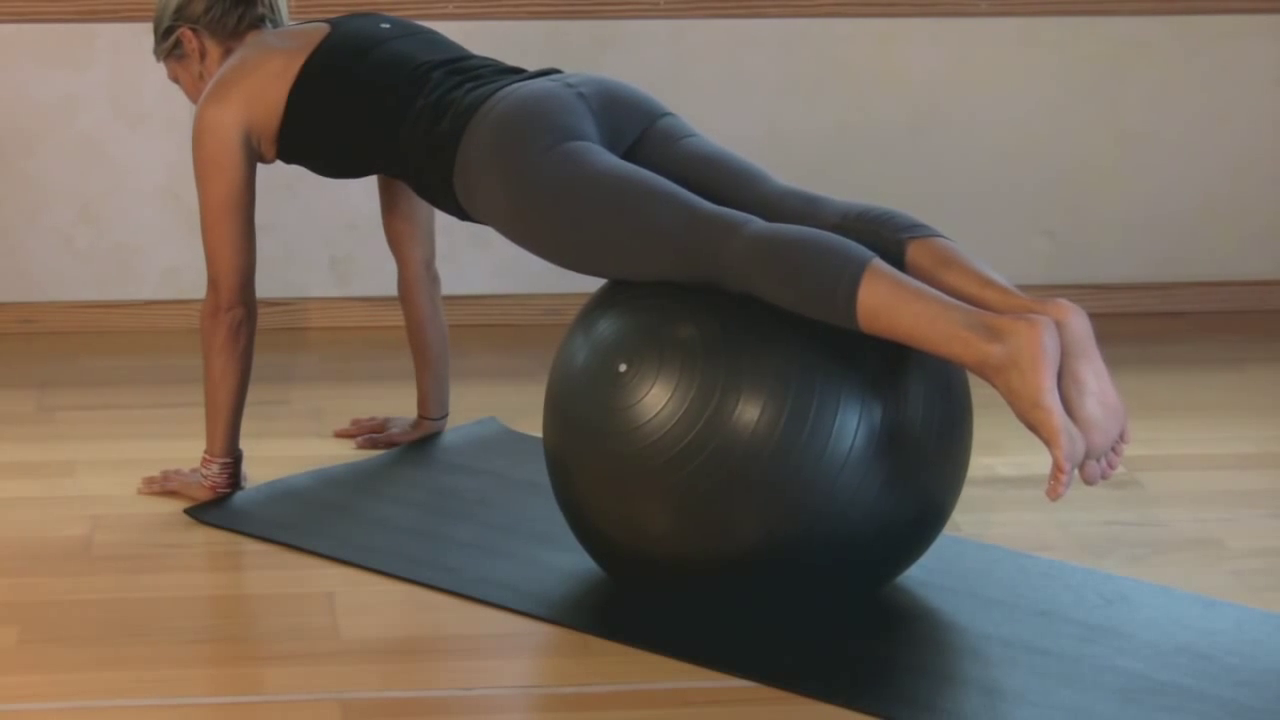yogaball: (530, 265, 979, 621)
